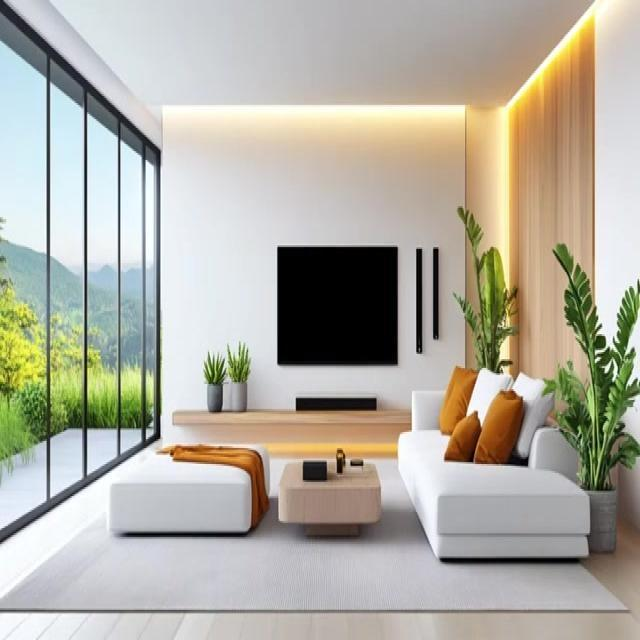obstacle: (397, 366, 590, 562), (277, 457, 381, 537)
